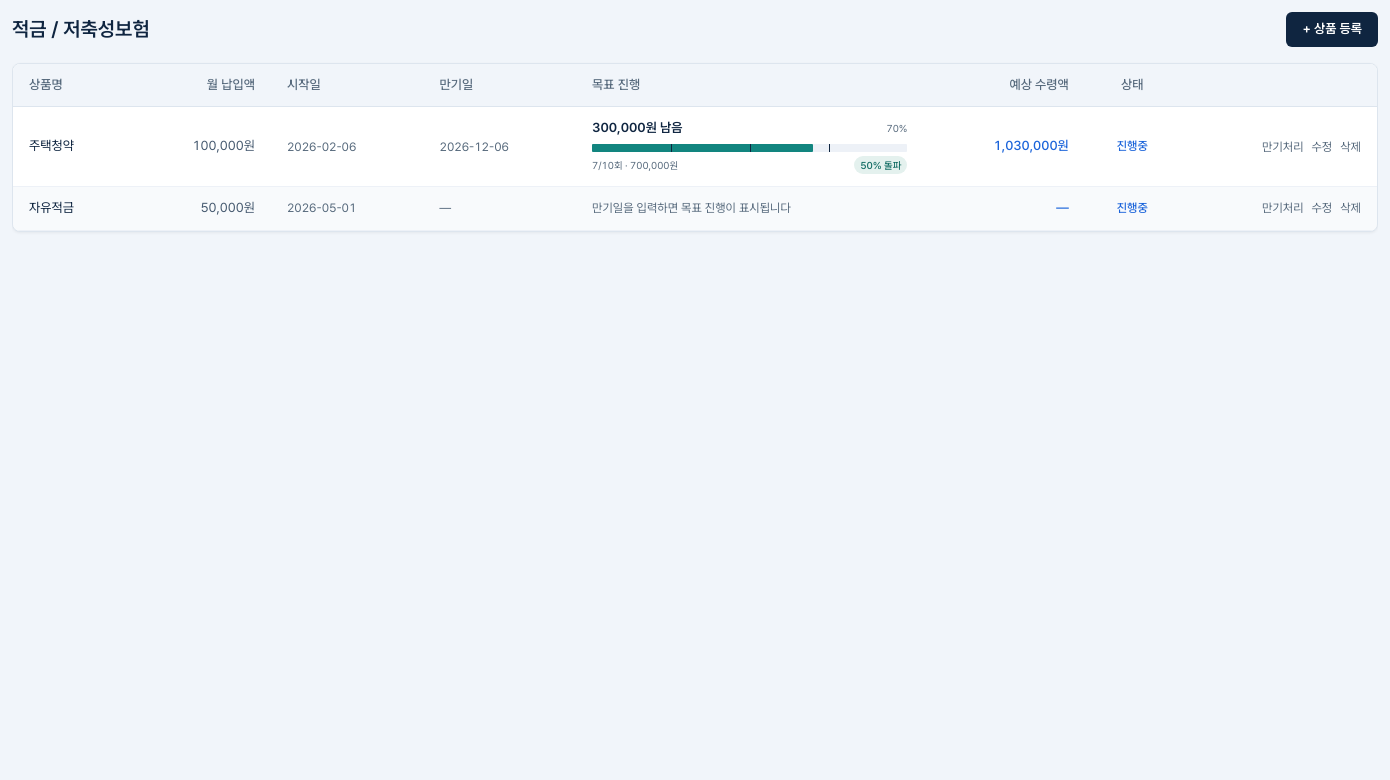
Test: 수정 폼 › 폼을 연 채 다른 상품을 수정하면 그 상품 값으로 바뀐다
Click the button "수정" in the row of "주택청약". click: (1322, 146)
box: [1312,138,1332,154]
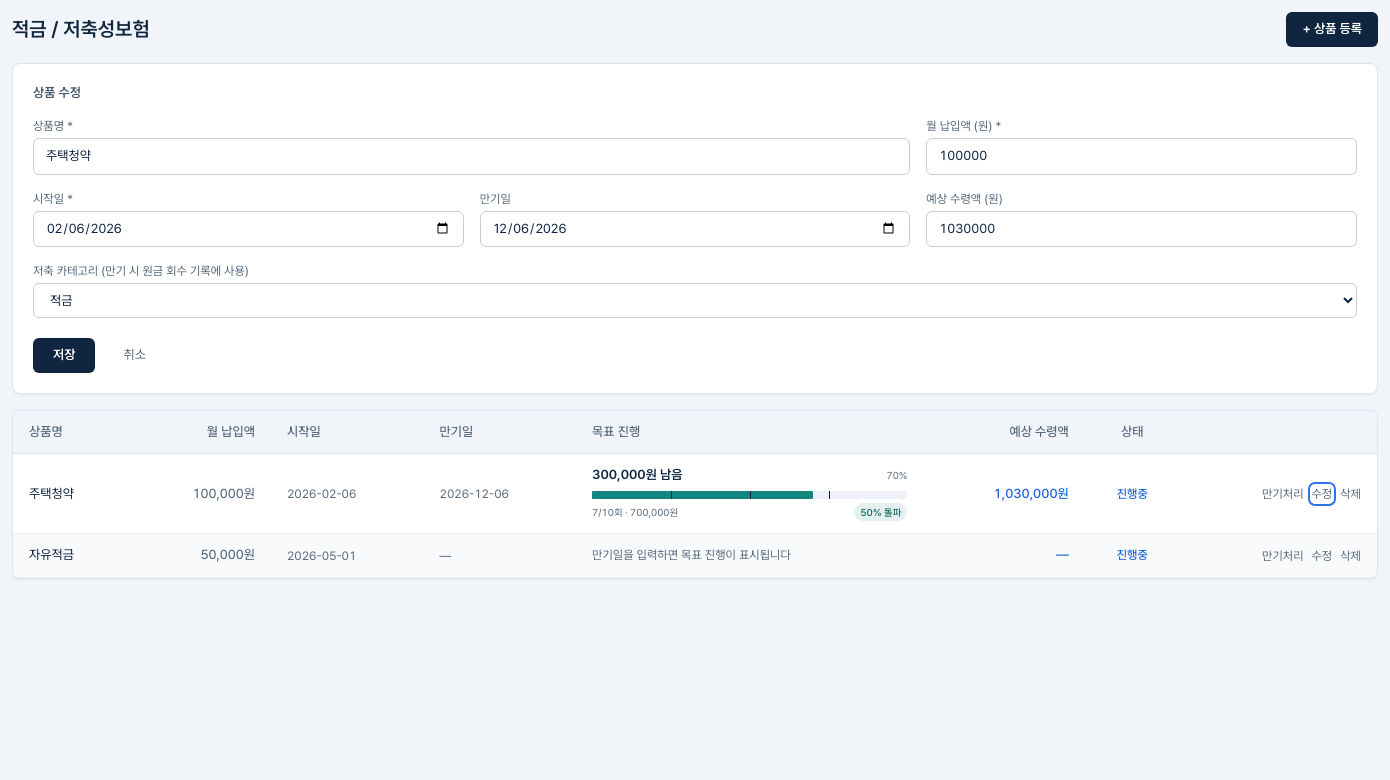
expect the field labelled "상품명 *" holds "주택청약": met, box [33,138,910,175]
Click the button "수정" in the row of "자유적금". click: (1322, 556)
box: [1312,548,1332,564]
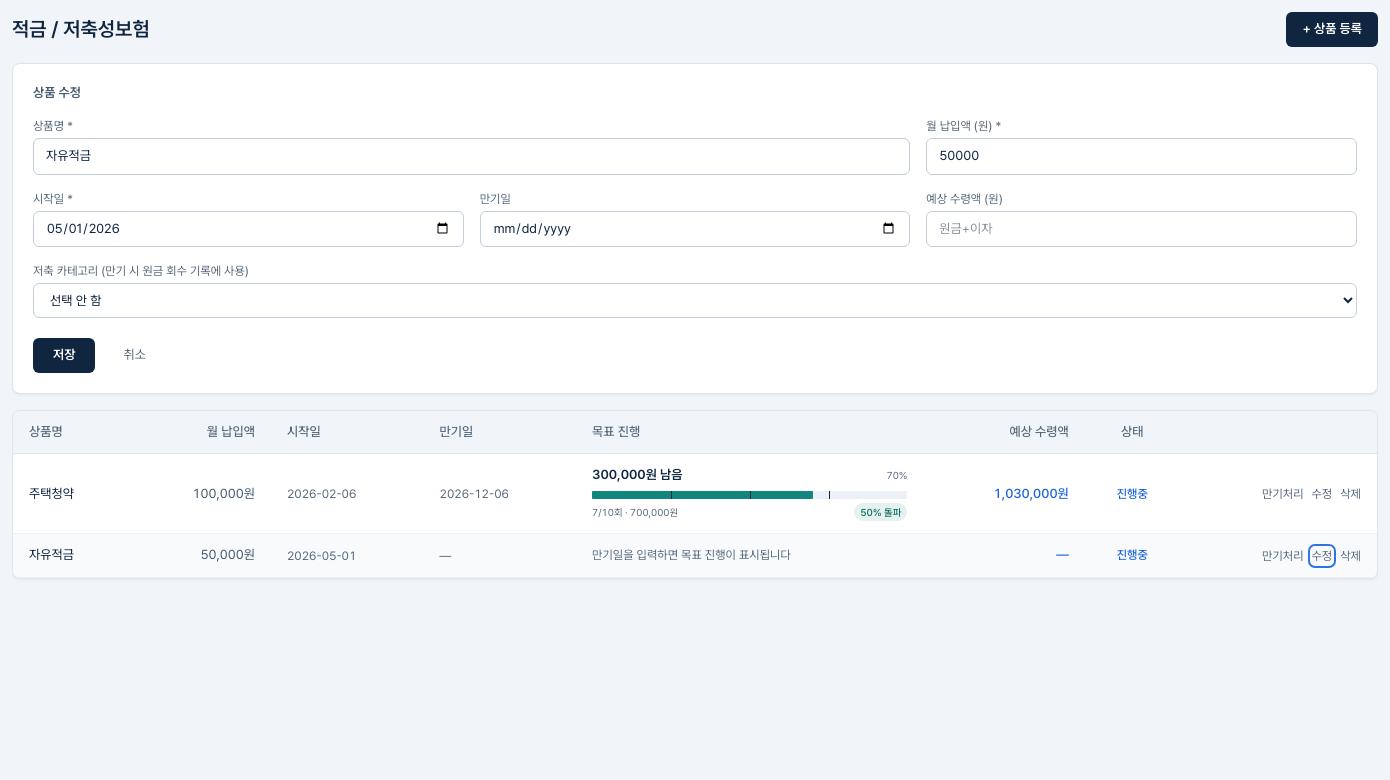
expect the field labelled "상품명 *" holds "자유적금": met, box [33,138,910,175]
